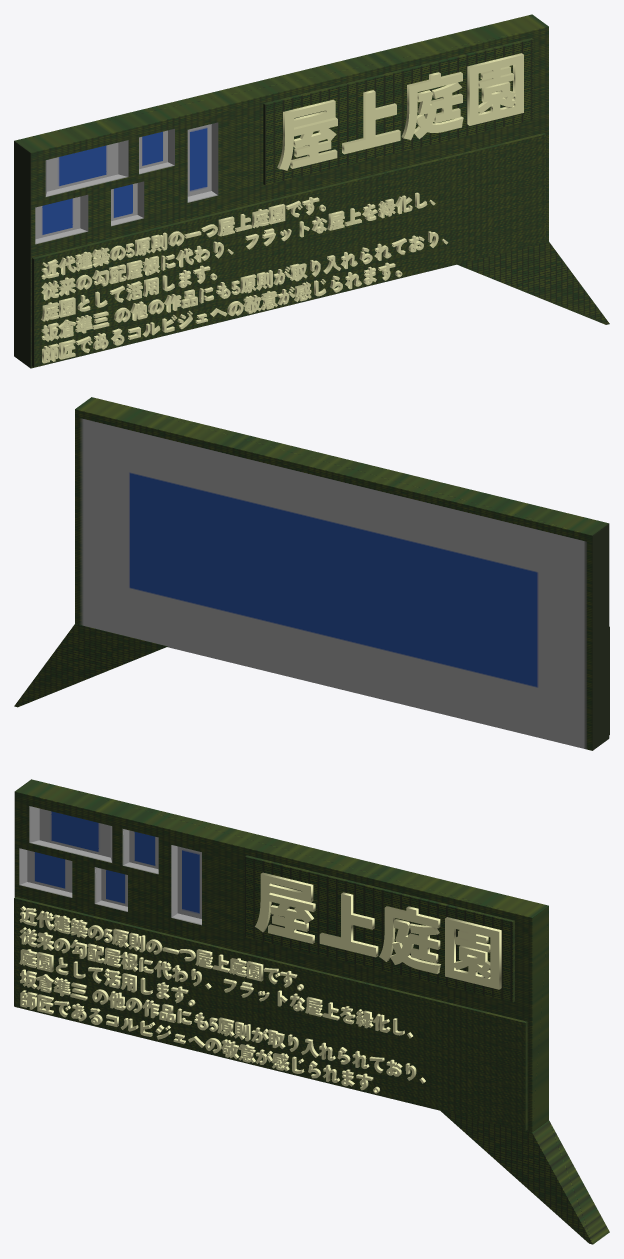
The model's file is fukidasi-okujouteien.glb.
3 renders of one model, top to bottom at view 1: azimuth 30°, elevation 25°; view 2: azimuth 150°, elevation 25°; view 3: azimuth 330°, elevation 25°, orthographic.
Visible parts, largest first — view 1: 立方体, 立方体.002, テキスト.001, 立方体.003, テキスト, 立方体.001; view 2: 立方体, 立方体.001; view 3: 立方体, 立方体.002, テキスト.001, 立方体.003, テキスト, 立方体.001.
Boxes of the visible parts, left/top/right/bottom form: 立方体: left=14, top=14, right=548, bottom=368; 立方体.002: left=32, top=133, right=545, bottom=367; テキスト.001: left=41, top=192, right=448, bottom=363; 立方体.003: left=263, top=38, right=533, bottom=185; テキスト: left=277, top=53, right=523, bottom=170; 立方体.001: left=457, top=241, right=609, bottom=324; 立方体: left=75, top=397, right=609, bottom=750; 立方体.001: left=14, top=624, right=167, bottom=707; 立方体: left=14, top=779, right=548, bottom=1132; 立方体.002: left=14, top=897, right=527, bottom=1131; テキスト.001: left=19, top=906, right=425, bottom=1093; 立方体.003: left=245, top=855, right=514, bottom=1002; テキスト: left=255, top=872, right=501, bottom=989; 立方体.001: left=440, top=1110, right=609, bottom=1244.
Size of the model in its own units: 12.42 by 6.4 by 0.7778.
5 materials, 4 textured.
